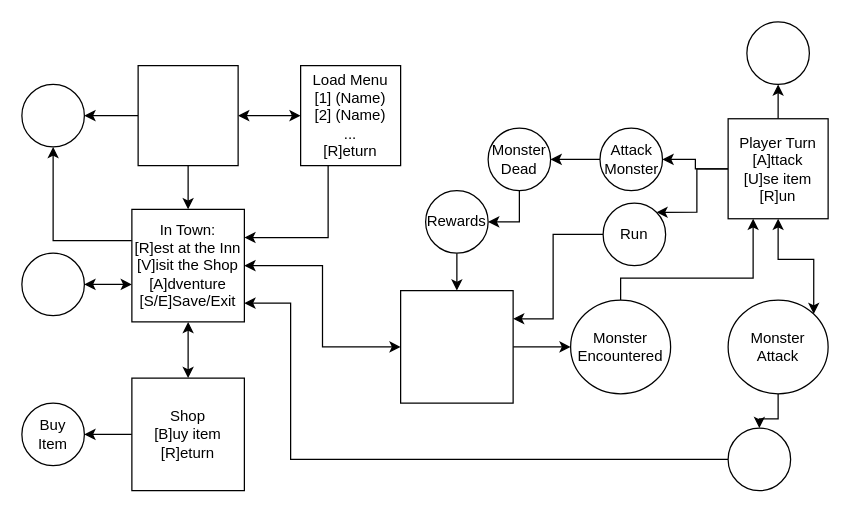
Some shapes in this 850 by 513 pixel diagram are drawn without their labels. Each missing label, with the centre of its shape:
"Adventure [F]ight monster [R]eturn" goes at [456,346].
"Main Menu: [S]tart [L]oad [E]xit" goes at [187,115].
"Player Death" goes at [759,459].
"Rest" goes at [52,284].
"Save/ Exit" goes at [52,115].
"Use Item" goes at [777,52].
